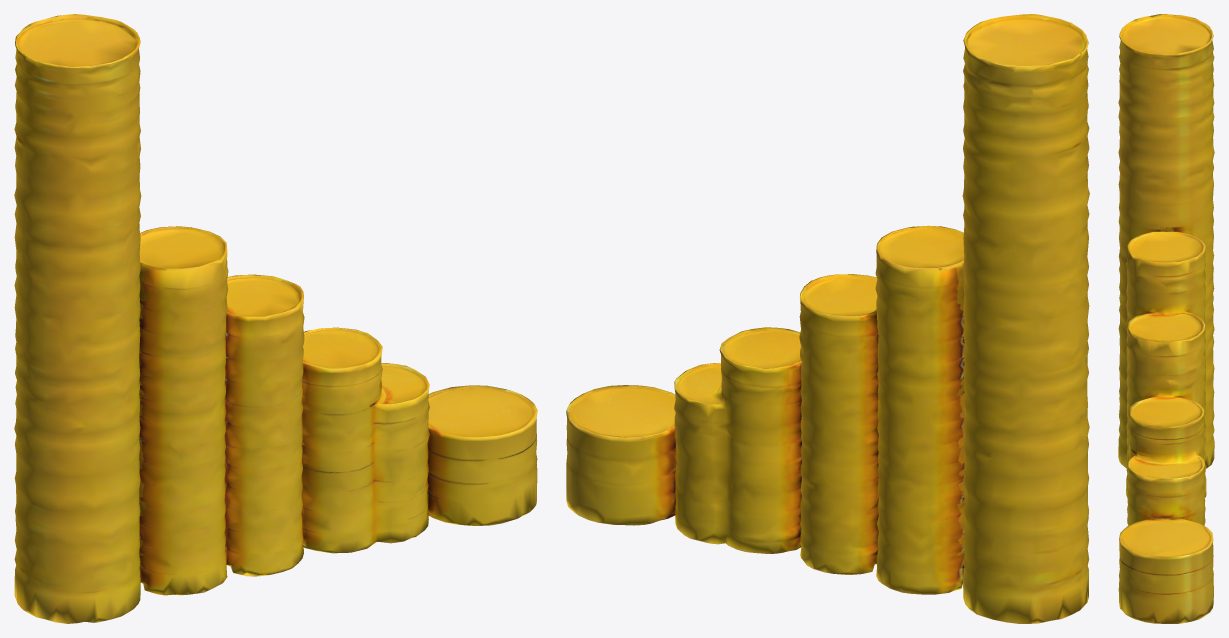
Rendered from Adm_Money.glb.
3 renders of one model, left to right at view 1: azimuth 30°, elevation 25°; view 2: azimuth 150°, elevation 25°; view 3: azimuth 270°, elevation 25°, orthographic. The views are drawn at different scales.
Bounding box in the file's own units: 1.9 × 2 × 0.4125.
Materials: 1 (1 with a texture image).
